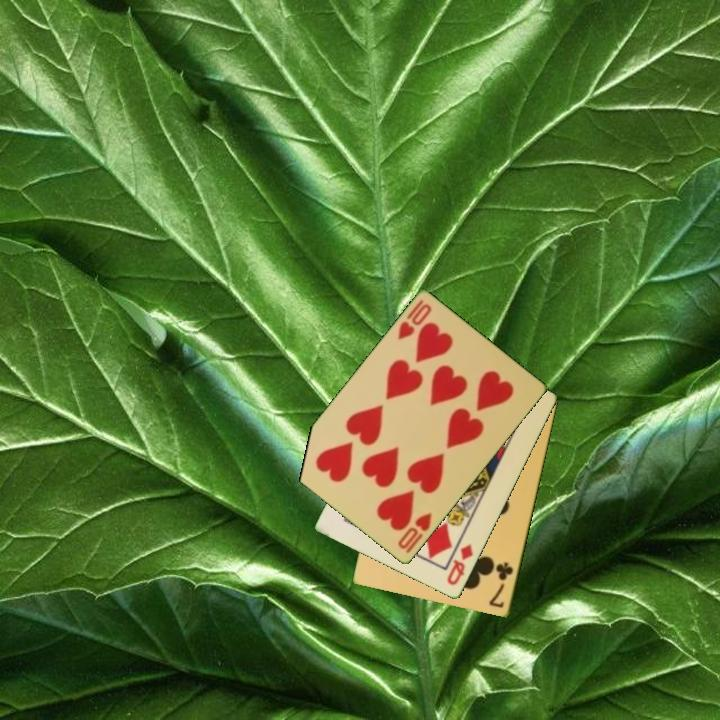10h: (394, 509, 435, 557), (394, 296, 435, 344)
7c: (486, 559, 516, 611)
Qd: (444, 540, 476, 589)
